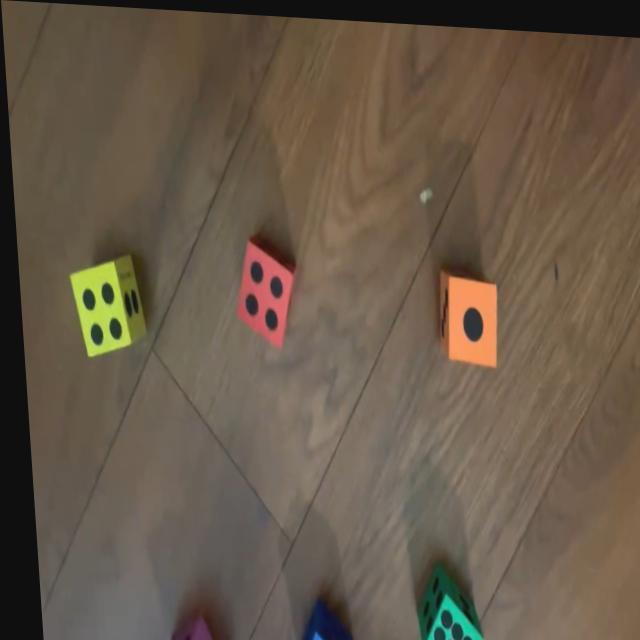blue_block: (288, 599, 347, 640)
red_block: (228, 233, 296, 346)
